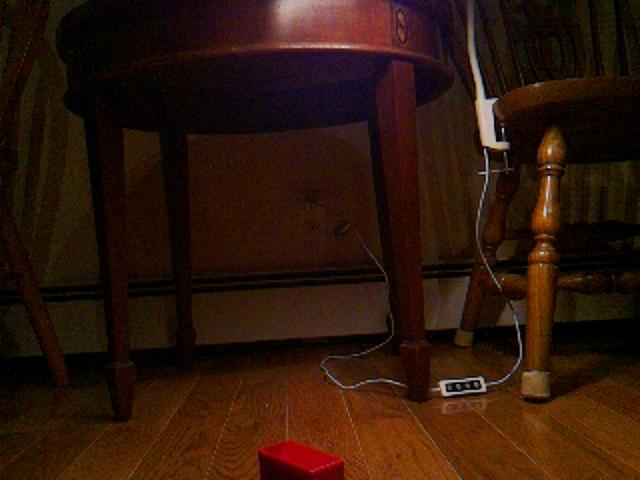red: (256, 438, 346, 480)
